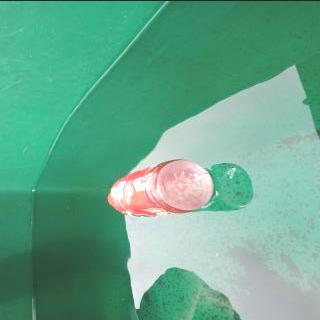bottle: (106, 159, 214, 217)
